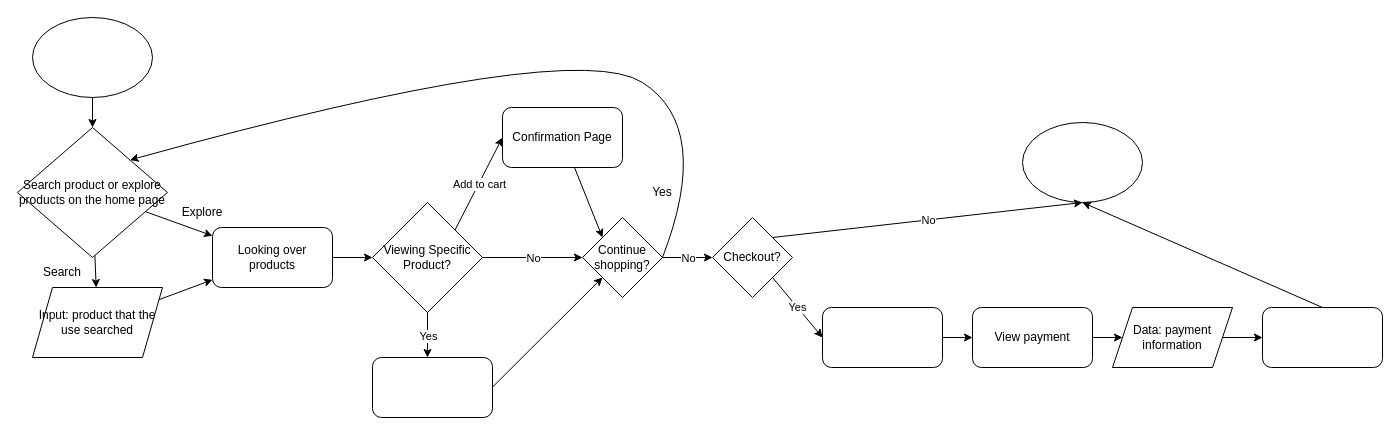
Image size: 1400x435. Some labels were removed from this diagram. Each missing label, with the centre of its shape:
Confirmation & Email: (1322,337)
Enter the website: (92,57)
Exit the website: (1082,162)
Open that product's page: (432,387)
View cart: (882,337)
